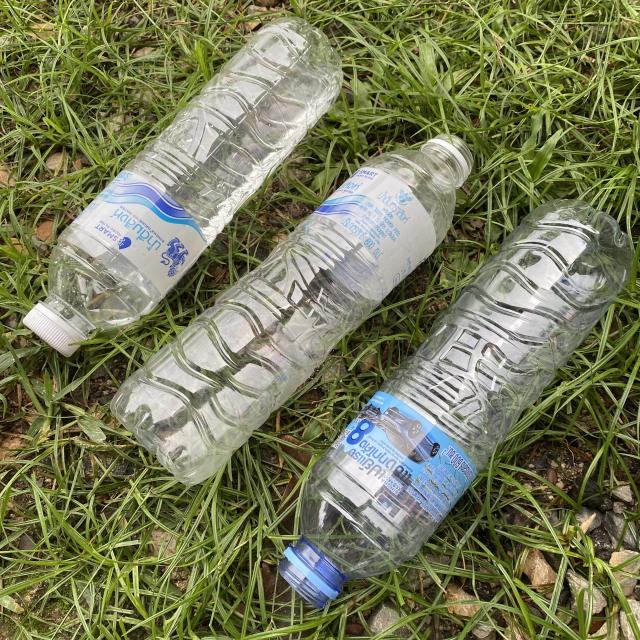plastik: (278, 200, 632, 609), (111, 135, 472, 484), (24, 18, 342, 356)
